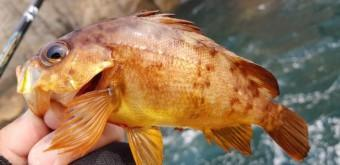fish: (15, 9, 308, 164)
